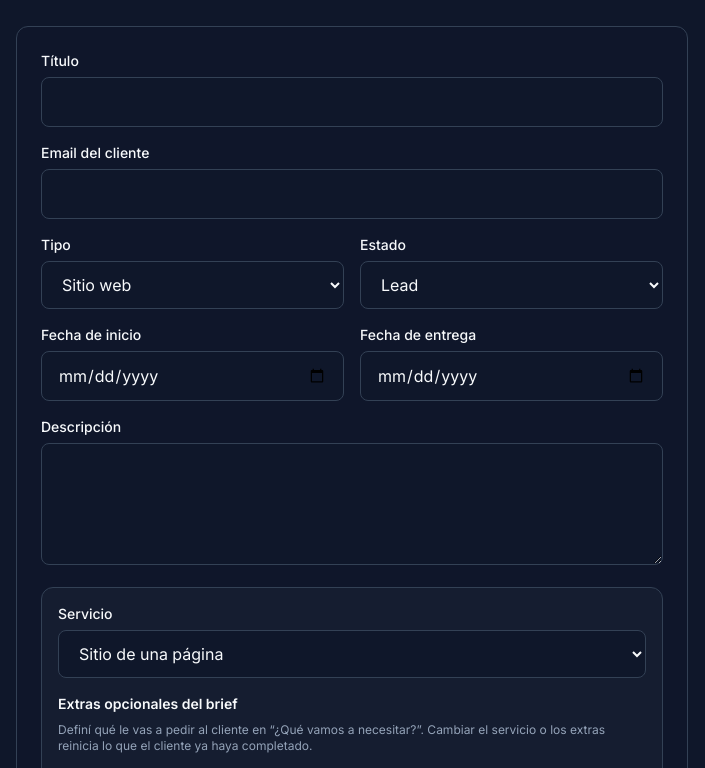
Test: ProjectFormPage › incluye la tienda automáticamente (deshabilitada) al elegir medida
The image size is (705, 768).
Select "E-commerce o a medida" in the dropdown labelled "Servicio": (352, 654) [58,630,646,678]
(page scrolled)
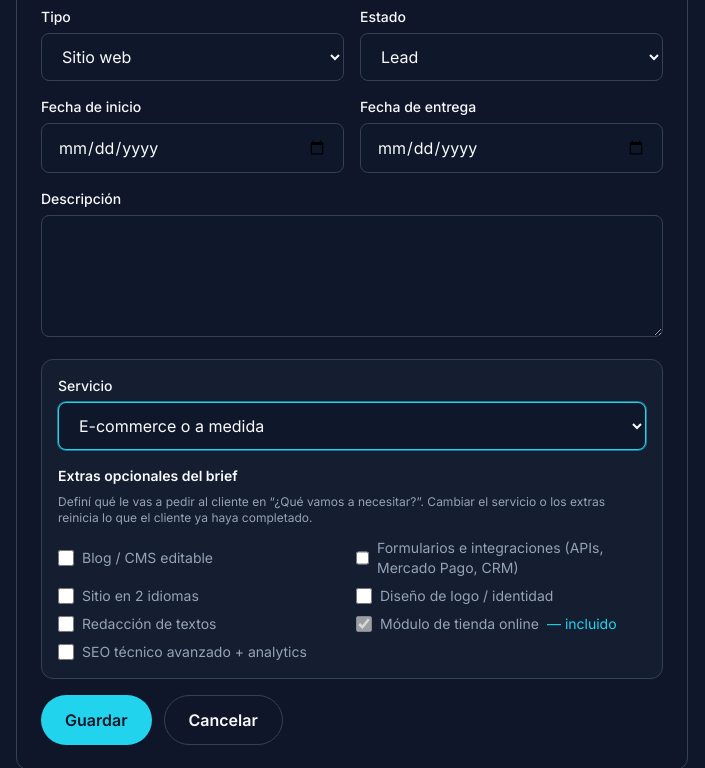
Result: the checkbox labelled "Módulo de tienda online — incluido" is disabled at [356,616,372,632]
Result: the checkbox labelled "Módulo de tienda online — incluido" is checked at [356,616,372,632]
